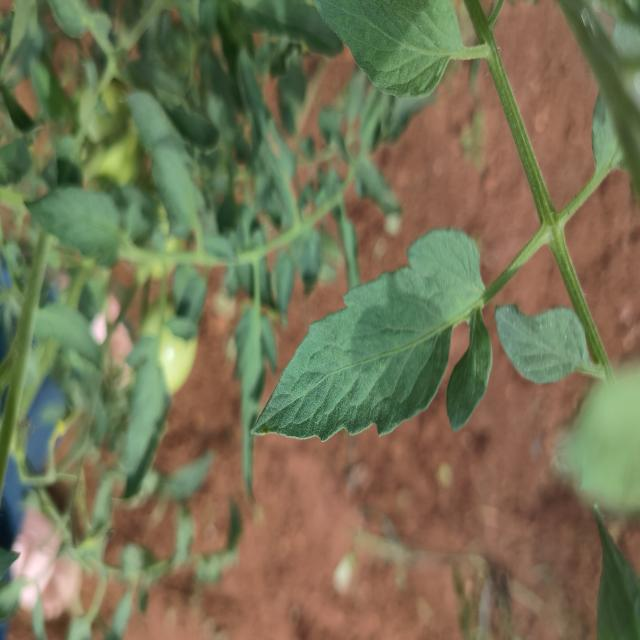tomato_healthy: (251, 220, 496, 448)
